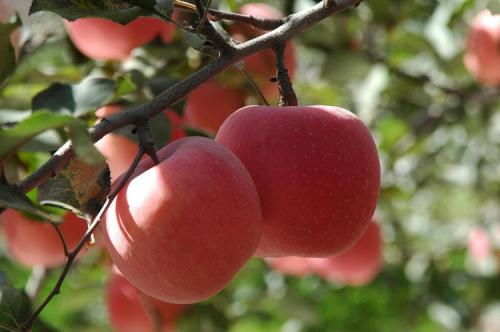apple: (96, 137, 266, 304)
obscured(1)_apple: (214, 104, 382, 259)
